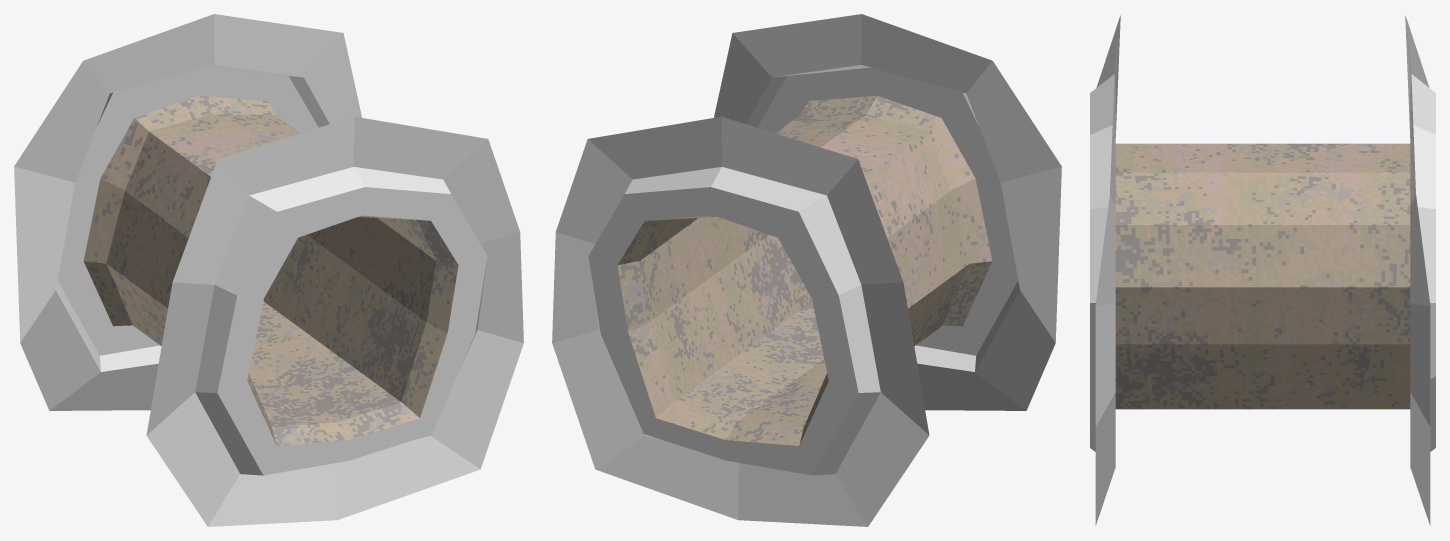
Rendered from Hole.fbx.
3 views of the same model, side by side, from view 1: azimuth 30°, elevation 25°; view 2: azimuth 150°, elevation 25°; view 3: azimuth 270°, elevation 25° (orthographic). The views are drawn at different scales.
Visible parts, largest first — view 1: Cylinder.002; view 2: Cylinder.002; view 3: Cylinder.002.
Boxes of the visible parts, x1,y1,x2,y2 form: Cylinder.002: (14, 14, 523, 526); Cylinder.002: (552, 14, 1061, 526); Cylinder.002: (1090, 15, 1435, 525).
Bounding box in the file's own units: 157 × 164 × 123.
